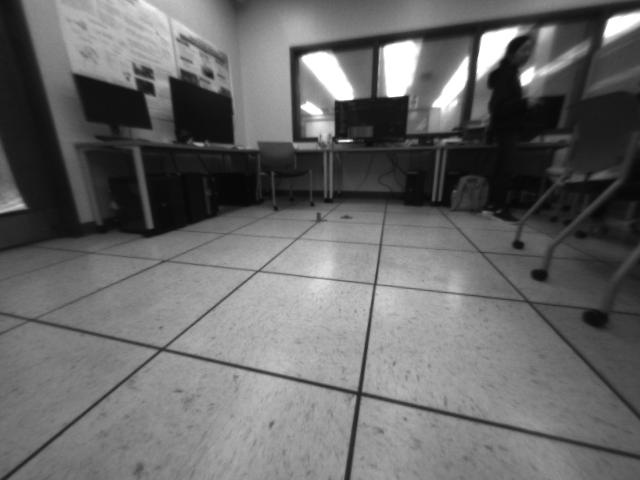X: (306, 210, 328, 225)
